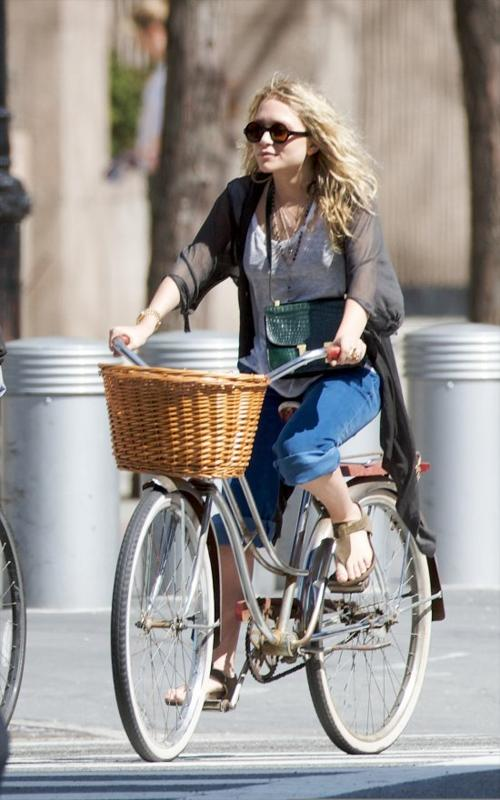person: (108, 76, 407, 705)
